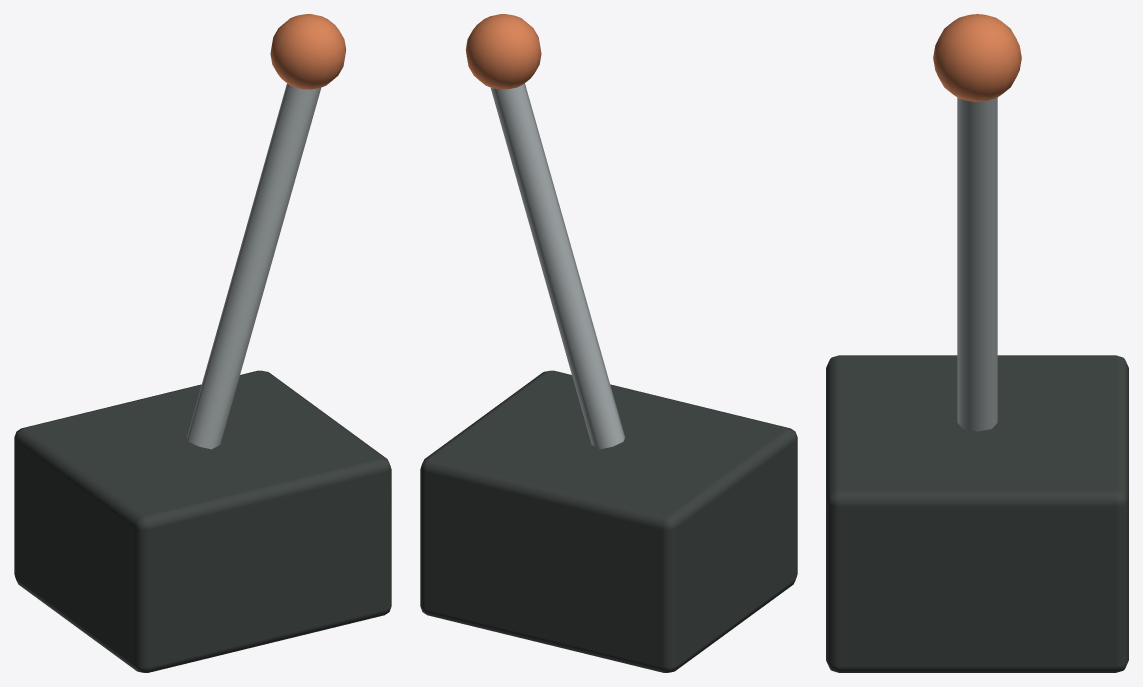
Rendered from off-grid-power-and-controls-lever-control-3ab6fc9f__3012.glb.
3 views of the same model, side by side, from view 1: azimuth 30°, elevation 25°; view 2: azimuth 150°, elevation 25°; view 3: azimuth 270°, elevation 25° (orthographic). The views are drawn at different scales.
Parts seen in each view (by area): view 1: lever-control, lever/metal; view 2: lever-control, lever/metal; view 3: lever-control, lever/metal.
Part boxes in pixels (x1,y1,x2,y2): lever-control: (14,14,391,672); lever/metal: (186,83,321,449); lever-control: (420,14,797,672); lever/metal: (490,83,625,449); lever-control: (826,14,1128,672); lever/metal: (957,97,997,431).
Size of the model in its own units: 0.177 by 0.354 by 0.15.
